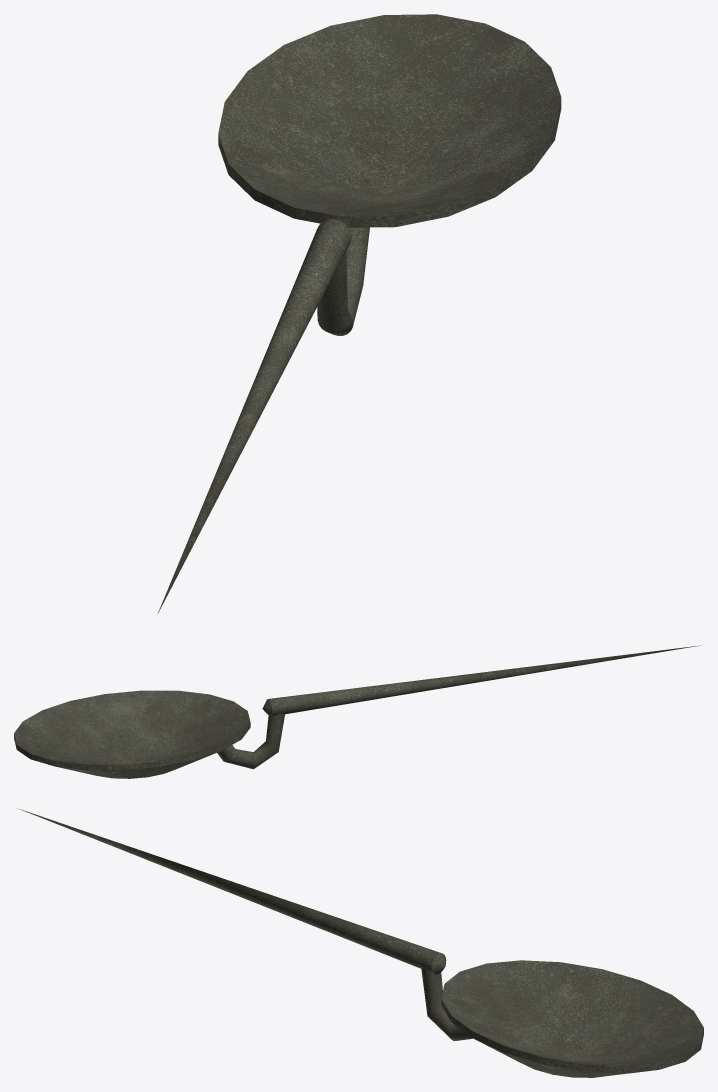
Rendered from E3spoon.glb.
3 views of the same model, one above another, from view 1: azimuth 30°, elevation 25°; view 2: azimuth 150°, elevation 25°; view 3: azimuth 270°, elevation 25° (orthographic). The views are drawn at different scales.
Parts seen in each view (by area): view 1: Spoon_SpoonpCylinder3; view 2: Spoon_SpoonpCylinder3; view 3: Spoon_SpoonpCylinder3.
Part boxes in pixels (box(x1,y1,x2,y2)): Spoon_SpoonpCylinder3: box(158, 14, 561, 613); Spoon_SpoonpCylinder3: box(14, 645, 701, 778); Spoon_SpoonpCylinder3: box(18, 808, 703, 1077).
Bounding box in the file's own units: 2.7 × 0.394 × 3.03.
1 material, 1 textured.
